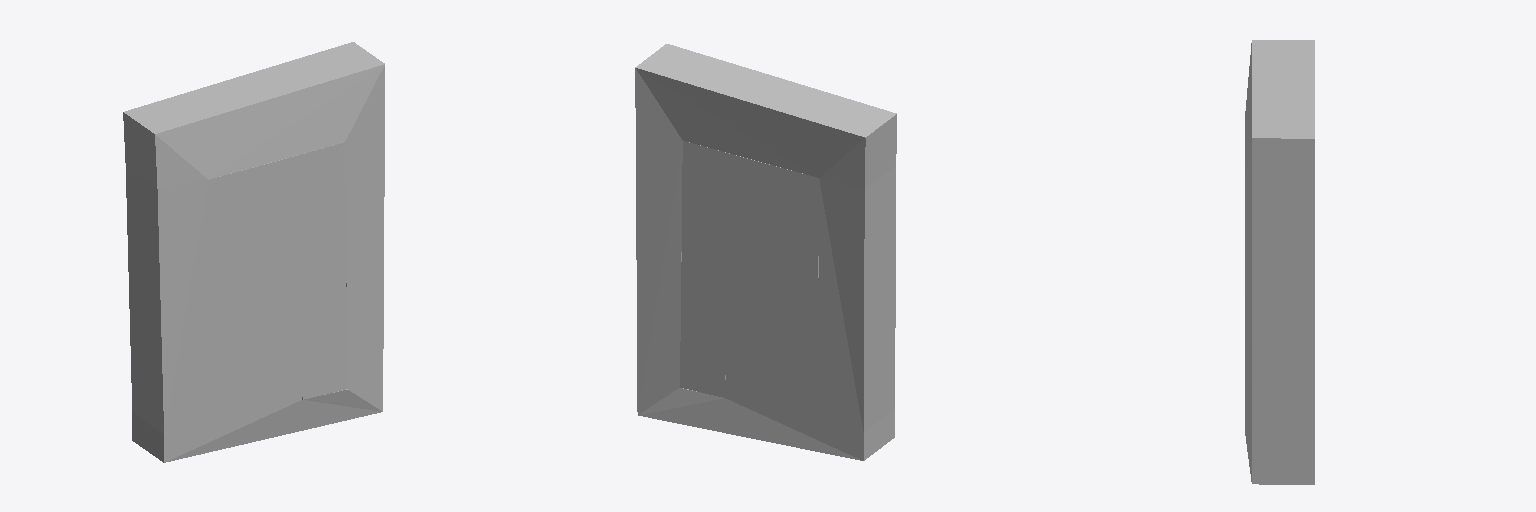
File: room_areas_z_up_x90.obj
3 renders of one model, left to right at view 1: azimuth 30°, elevation 25°; view 2: azimuth 150°, elevation 25°; view 3: azimuth 270°, elevation 25°, orthographic.
Visible parts, largest first — view 1: outside, dining, bathroom, hallway, kitchen, livingroom, bedroom; view 2: outside, dining, bathroom, hallway, kitchen, livingroom, bedroom; view 3: outside.
Boxes of the visible parts, box(x1,y1,x2,y2) form: outside: box(123, 42, 384, 462); dining: box(270, 142, 345, 254); bathroom: box(300, 237, 347, 399); hallway: box(210, 248, 301, 420); kitchen: box(209, 163, 270, 272); livingroom: box(209, 299, 271, 397); bedroom: box(209, 256, 271, 313); outside: box(635, 44, 896, 460); dining: box(682, 141, 757, 252); bathroom: box(680, 235, 727, 397); hallway: box(725, 246, 817, 419); kitchen: box(756, 161, 818, 271); livingroom: box(755, 298, 818, 395); bedroom: box(756, 254, 818, 312); outside: box(1245, 40, 1314, 484).
Bounding box in the file's own units: 12.83 × 18.51 × 3.4.